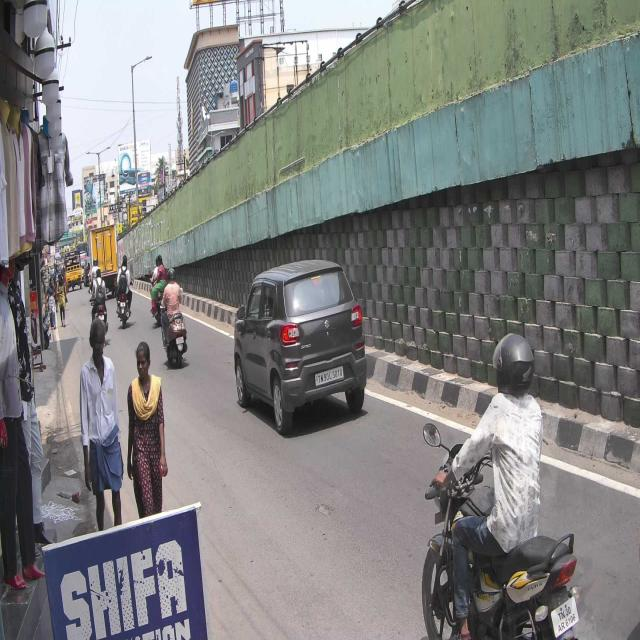single_rider: (421, 327, 580, 640)
